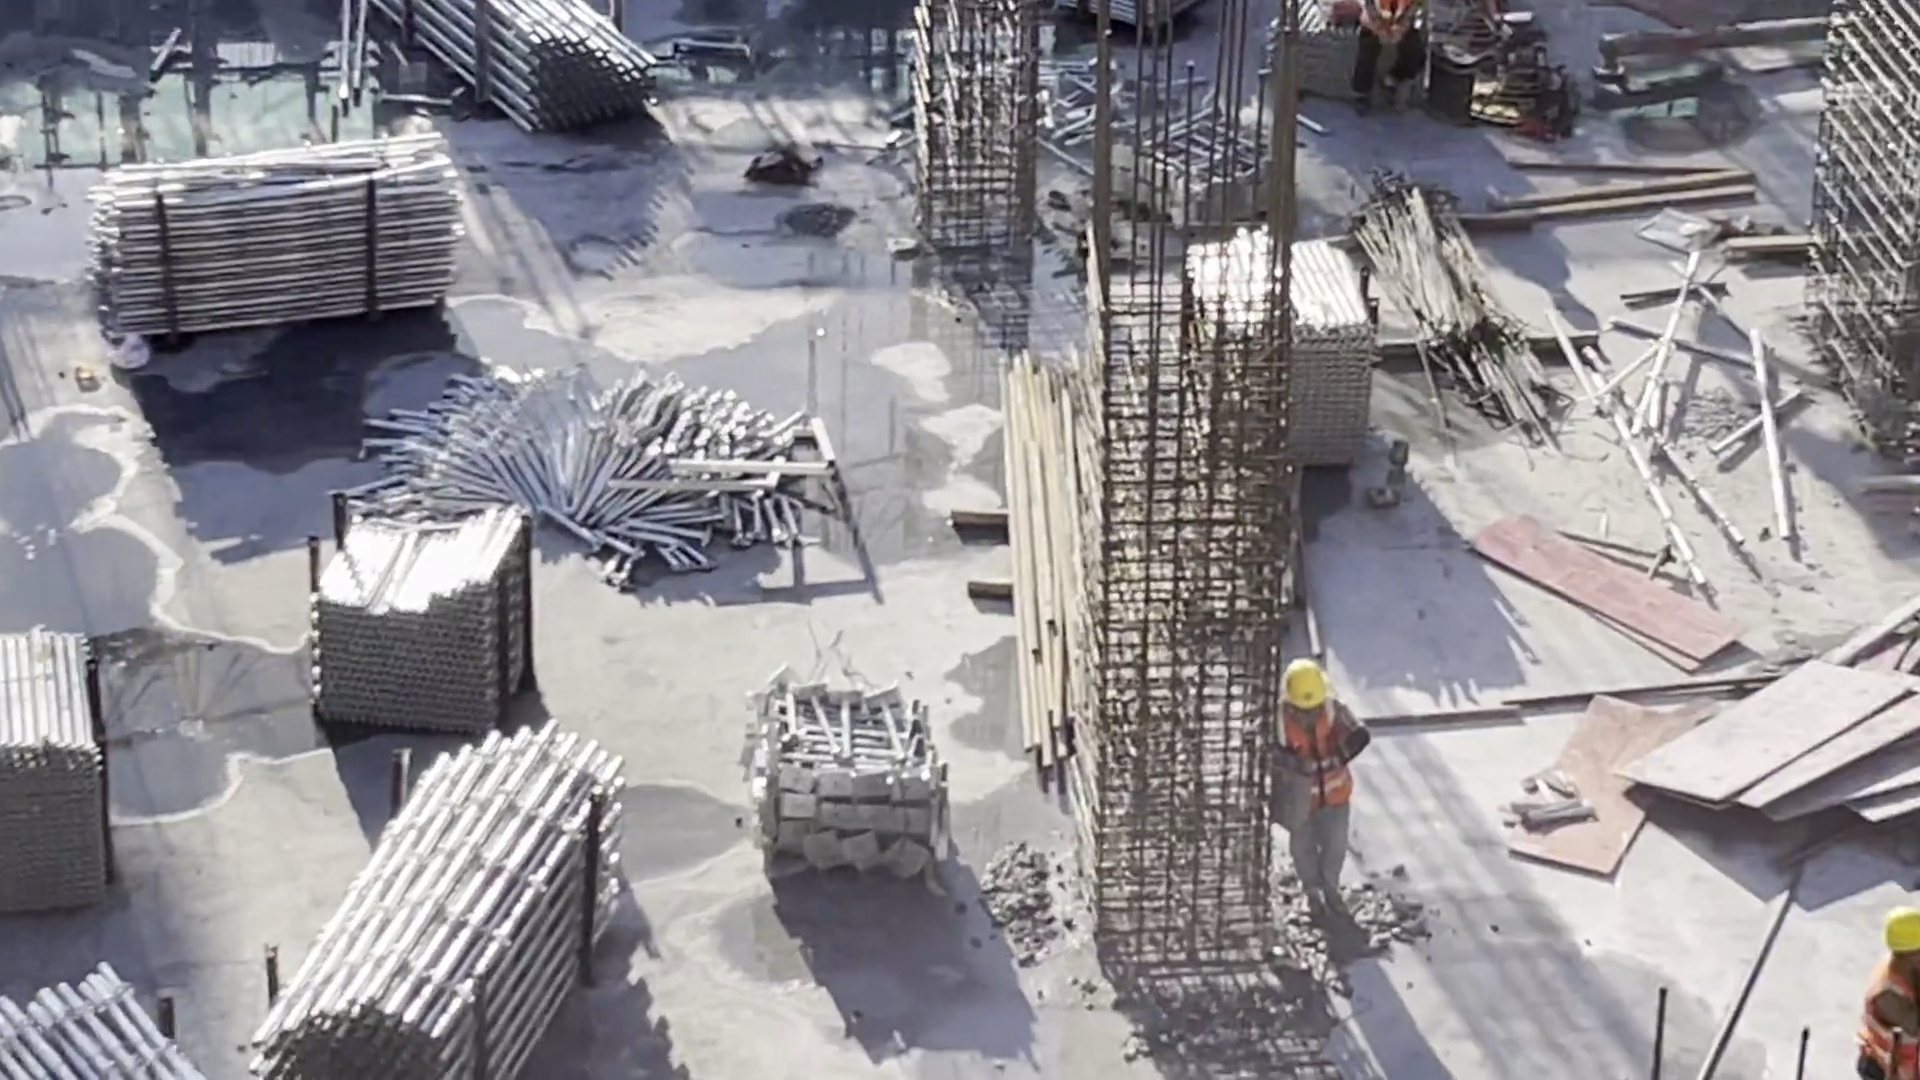board: (1621, 666, 1916, 835)
helmet: (1282, 660, 1344, 716), (1870, 900, 1920, 953)
person: (1277, 642, 1381, 930), (1853, 895, 1920, 1080), (1357, 1, 1426, 102)
scaffold: (290, 749, 640, 1071), (388, 357, 809, 554), (71, 138, 452, 326), (268, 493, 577, 719), (1167, 218, 1390, 461), (748, 684, 966, 892), (1, 604, 115, 955), (1053, 78, 1262, 230), (427, 1, 643, 121), (1, 956, 207, 1074)
vest: (1276, 705, 1357, 806), (1865, 963, 1920, 1064), (1366, 1, 1423, 50)
